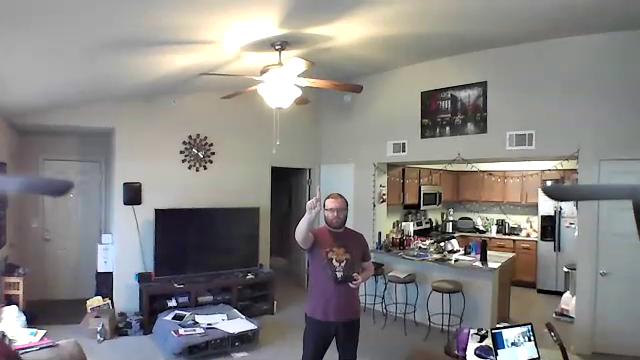up: (303, 183, 324, 215)
